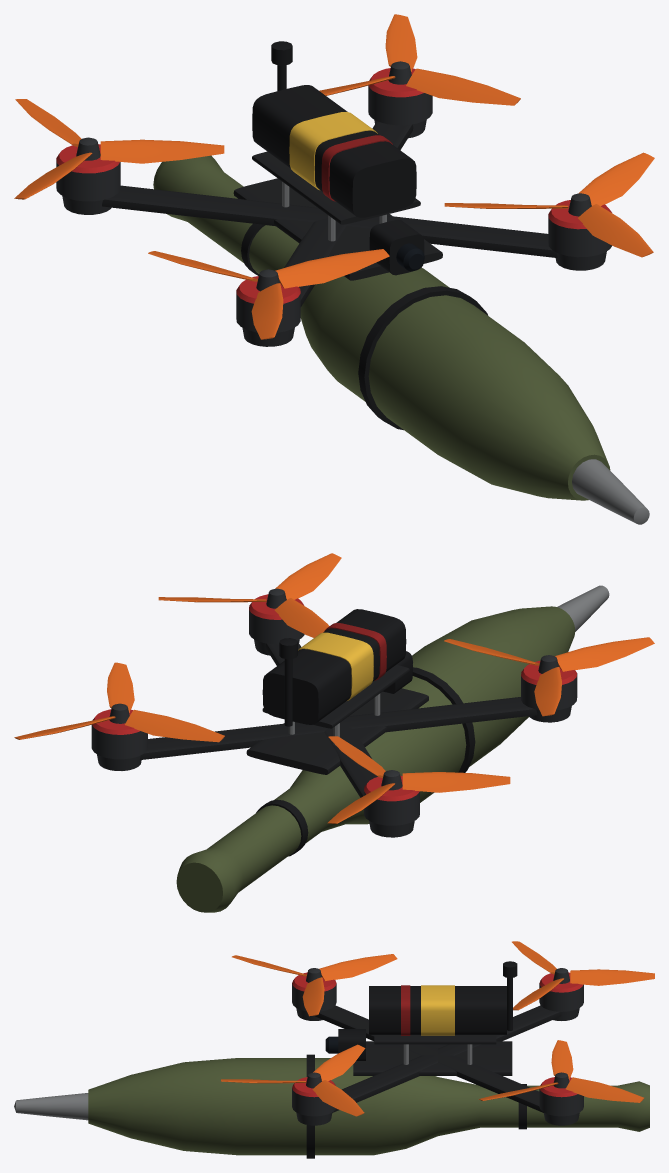
Rendered from fpv.glb.
The picture shows the model from 3 angles, top to bottom: view 1: azimuth 30°, elevation 25°; view 2: azimuth 150°, elevation 25°; view 3: azimuth 270°, elevation 25°; orthographic projection. The views are drawn at different scales.
Visible parts, largest first — view 1: fpv, propv3, propv2, propv0, propv1; view 2: fpv, propv3, propv2, propv1, propv0; view 3: fpv, propv0, propv3, propv1, propv2.
Boxes of the visible parts, <box> form: fpv: <box>56,41,649,524</box>; propv3: <box>148,249,389,339</box>; propv2: <box>14,99,224,199</box>; propv0: <box>444,152,654,257</box>; propv1: <box>319,14,520,105</box>; fpv: <box>91,585,609,912</box>; propv3: <box>444,637,654,716</box>; propv2: <box>327,736,510,823</box>; propv1: <box>14,662,224,742</box>; propv0: <box>158,553,341,637</box>; fpv: <box>14,961,649,1158</box>; propv0: <box>221,1044,365,1116</box>; propv3: <box>232,954,397,1016</box>; propv1: <box>478,1040,644,1102</box>; propv2: <box>512,941,654,1010</box>.
Size of the model in its own units: 0.3906 by 0.1992 by 0.6047.
